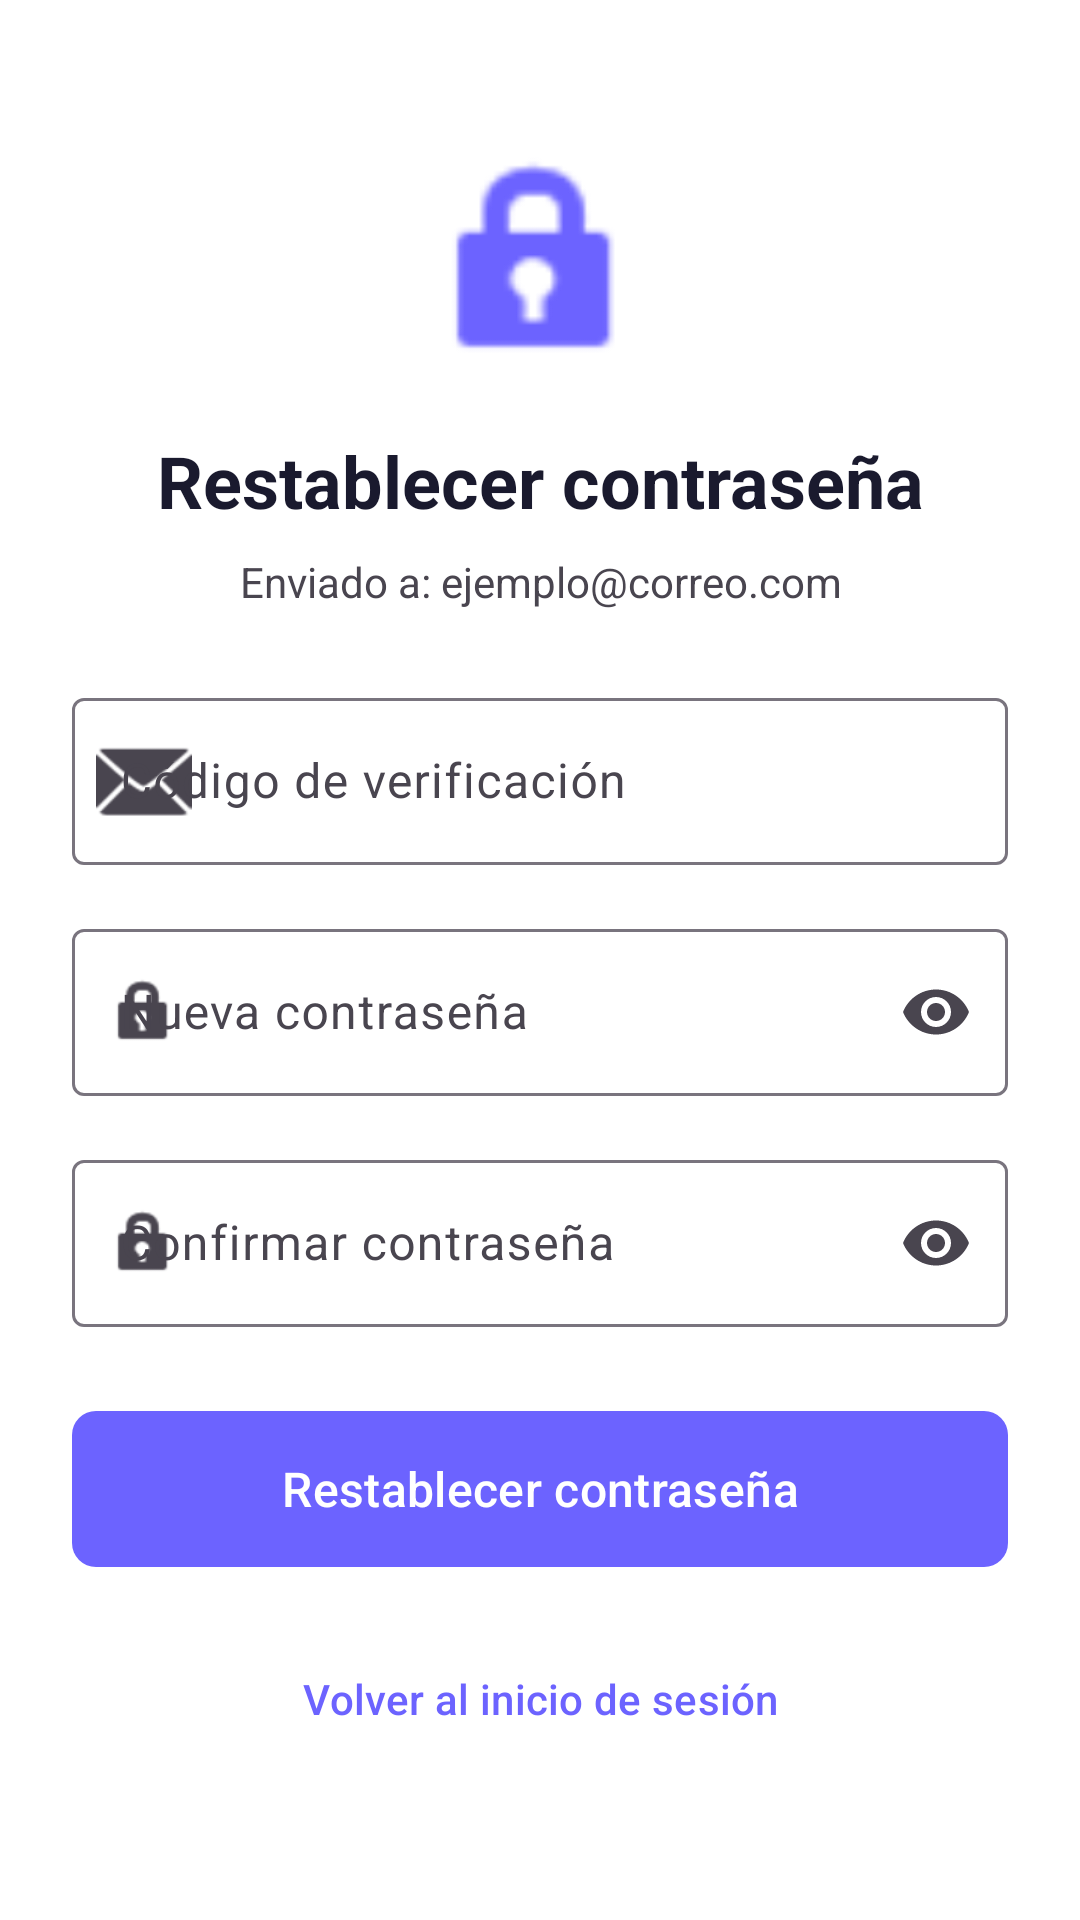

Icons on this 1080w x 1920h Android screen, each with its box as (x1, y1, x2, y2):
lock idle: (456, 165, 613, 348)
